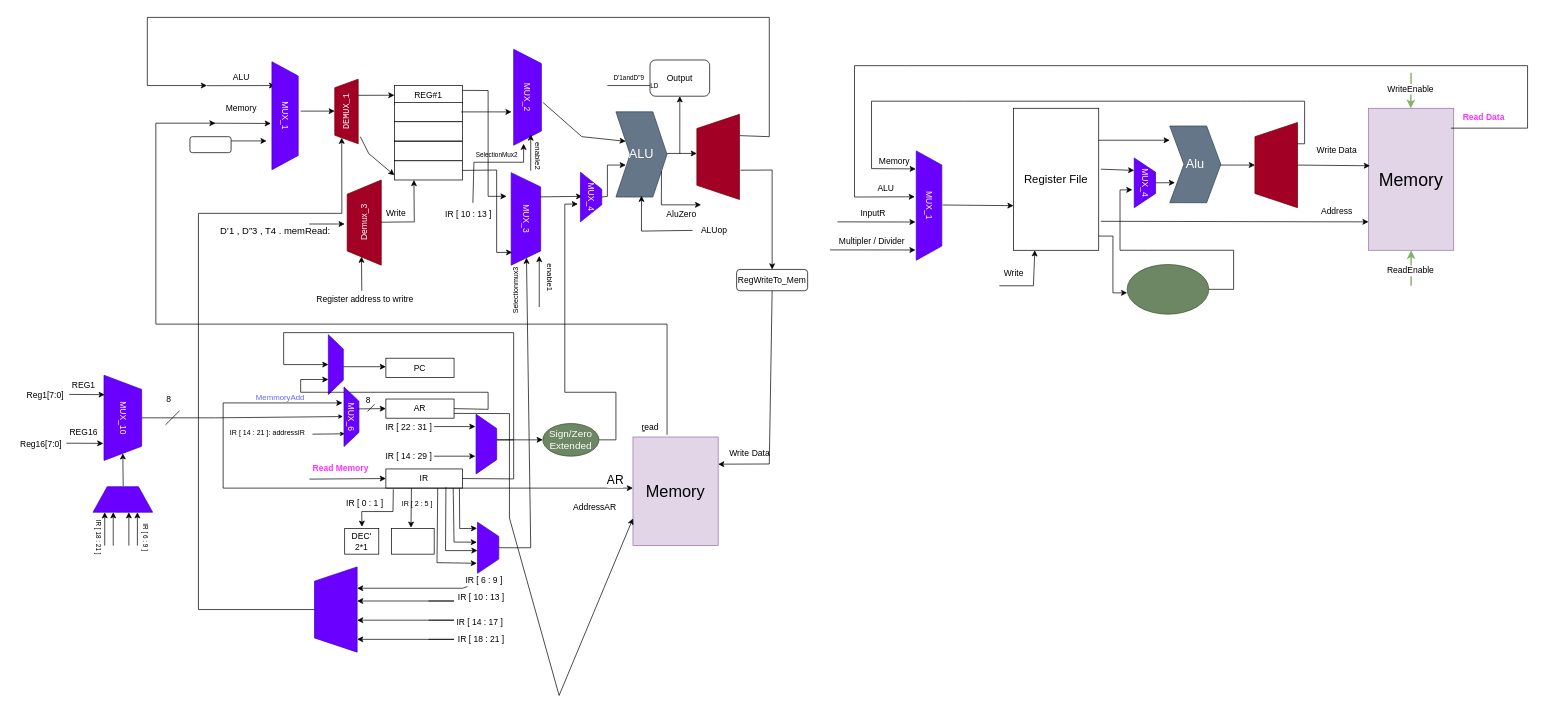
This 1546x714 diagram has some shape labels left out. Each missing label, with the centre of its shape:
DEC" 4*16: pixel 412 541
DeMux: pixel 1276 165
DEMUX_2: pixel 717 157
Input: pixel 210 144
MUX_11: pixel 122 499
MUX_5: pixel 335 364
MUX_7: pixel 488 547
MUX_8: pixel 486 444
MUX_9: pixel 335 609
REG#16: pixel 428 170
REG#2: pixel 428 112
Sign Extended: pixel 1167 289
